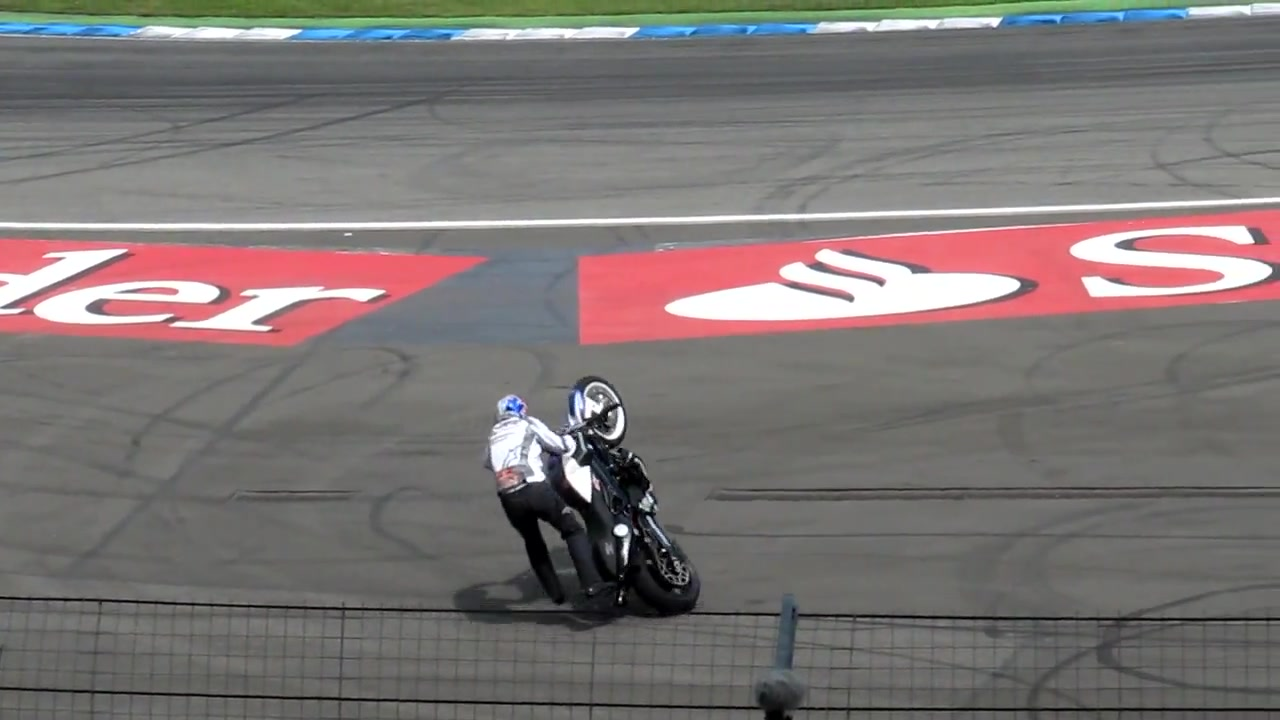motorbike: (542, 376, 703, 618)
